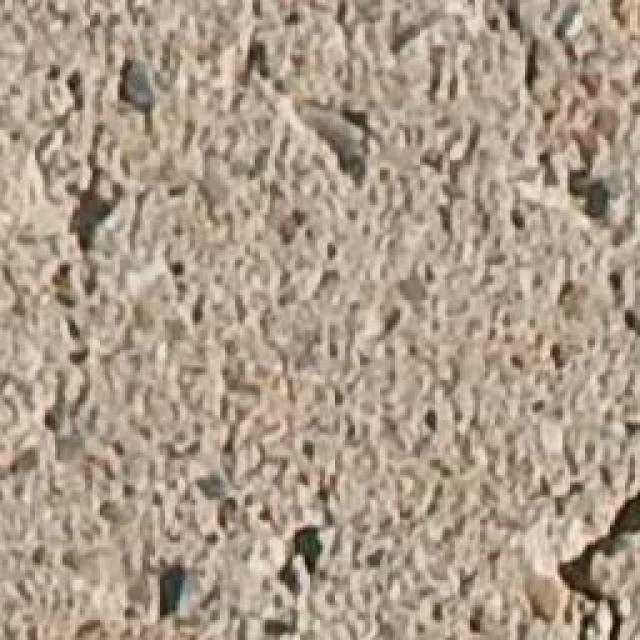concrete-crack: (539, 466, 640, 640)
